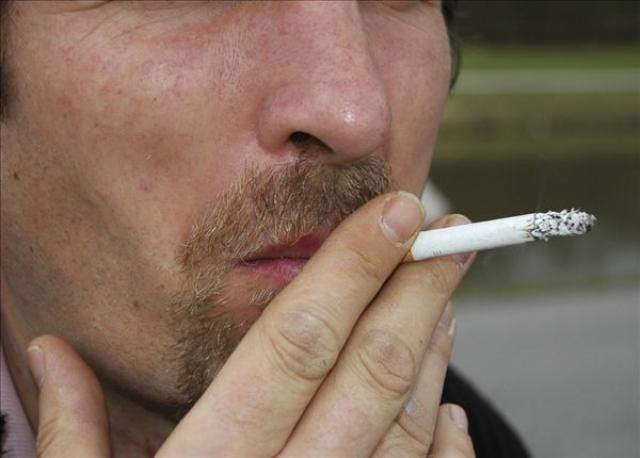Cigarette: (354, 202, 602, 266)
